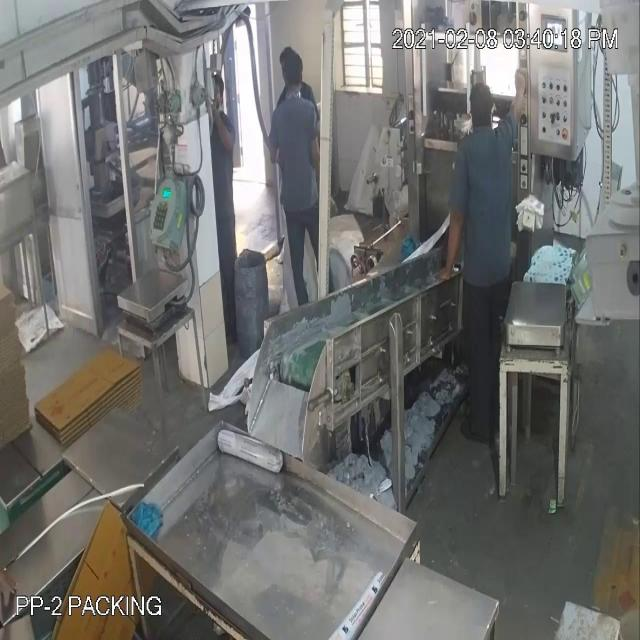No_Gloves: (22, 52, 517, 244)
